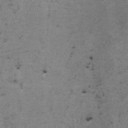oxide scale of temperature system: (80, 78, 105, 98), (86, 54, 94, 71), (13, 78, 23, 90), (85, 115, 94, 123), (16, 62, 22, 69), (42, 68, 48, 74), (3, 38, 9, 42), (0, 92, 6, 96), (71, 46, 76, 50), (110, 120, 114, 124)
